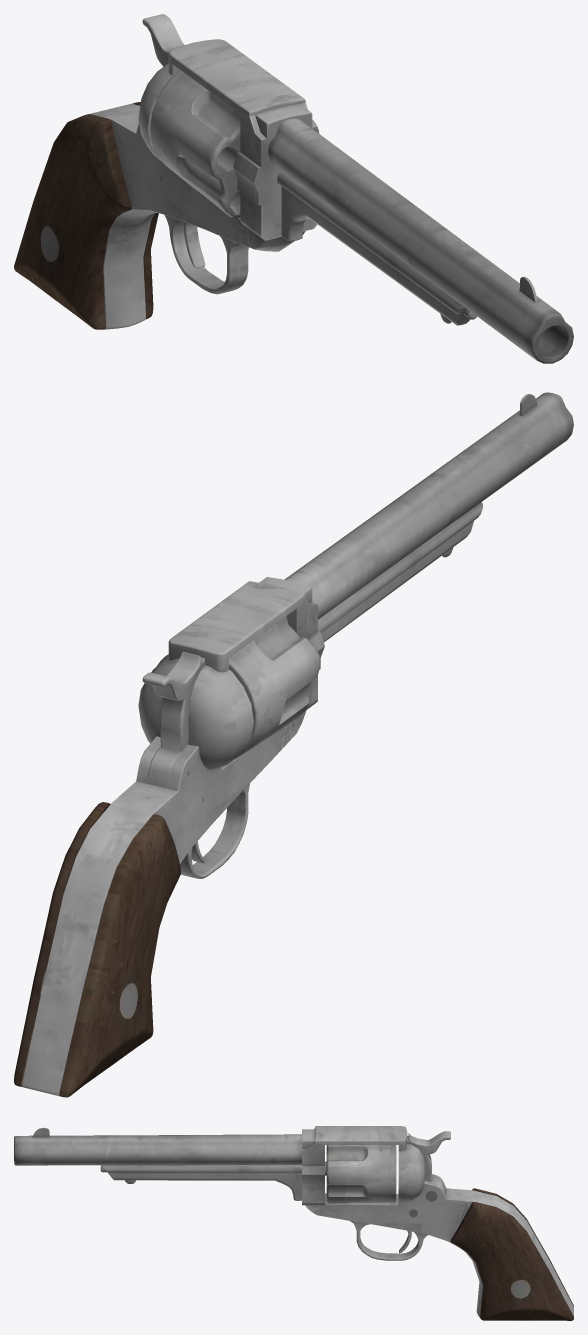
Rendered from gun-revolver.glb.
3 renders of one model, top to bottom at view 1: azimuth 30°, elevation 25°; view 2: azimuth 150°, elevation 25°; view 3: azimuth 270°, elevation 25°, orthographic. The views are drawn at different scales.
Parts seen in each view (by area): view 1: Frame, Barrel, Cylinder, Trigger_guard, Hammer, Trigger; view 2: Frame, Barrel, Cylinder, Hammer, Trigger_guard; view 3: Frame, Barrel, Cylinder, Hammer, Trigger_guard.
Part boxes in pixels (bbox=[...]): Frame: bbox=[14, 39, 317, 329]; Barrel: bbox=[268, 118, 573, 363]; Cylinder: bbox=[150, 71, 319, 217]; Trigger_guard: bbox=[164, 215, 248, 294]; Hammer: bbox=[142, 14, 184, 66]; Trigger: bbox=[183, 222, 205, 268]; Frame: bbox=[14, 577, 324, 1097]; Barrel: bbox=[284, 392, 573, 642]; Cylinder: bbox=[156, 616, 320, 758]; Hammer: bbox=[142, 651, 205, 788]; Trigger_guard: bbox=[180, 783, 249, 878]; Frame: bbox=[302, 1126, 573, 1320]; Barrel: bbox=[14, 1134, 301, 1200]; Cylinder: bbox=[325, 1145, 396, 1203]; Hammer: bbox=[407, 1131, 450, 1195]; Trigger_guard: bbox=[350, 1221, 427, 1260].
Size of the model in its own units: 3.47 by 10.31 by 28.1.
Materials: 1 (1 with a texture image).
